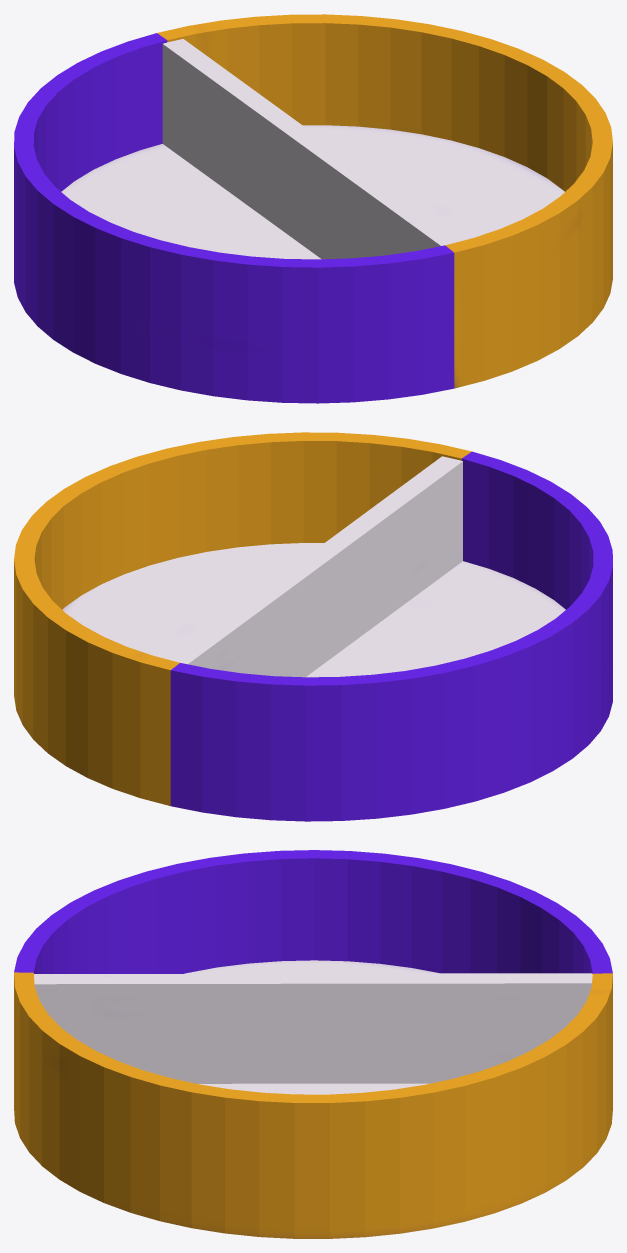
File: circle pot.fbx
3 renders of one model, top to bottom at view 1: azimuth 30°, elevation 25°; view 2: azimuth 150°, elevation 25°; view 3: azimuth 270°, elevation 25°, orthographic.
Parts seen in each view (by area): view 1: Cylinder; view 2: Cylinder; view 3: Cylinder.
Boxes of the visible parts, x1,y1,x2,y2 form: Cylinder: (14, 14, 612, 403); Cylinder: (14, 432, 612, 821); Cylinder: (14, 850, 612, 1238).
Size of the model in its own units: 589 by 147 by 589.
